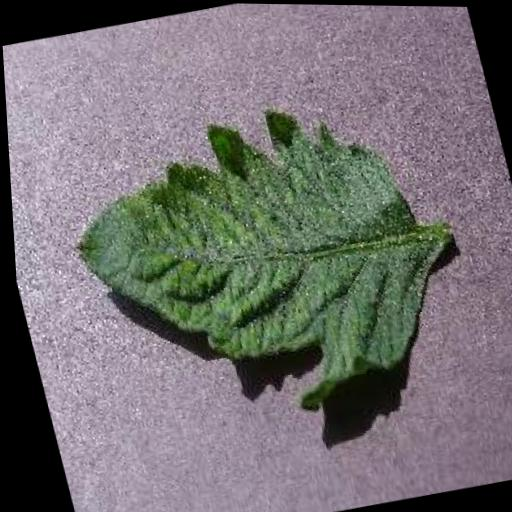Mosaic Virus: (41, 80, 482, 449)
